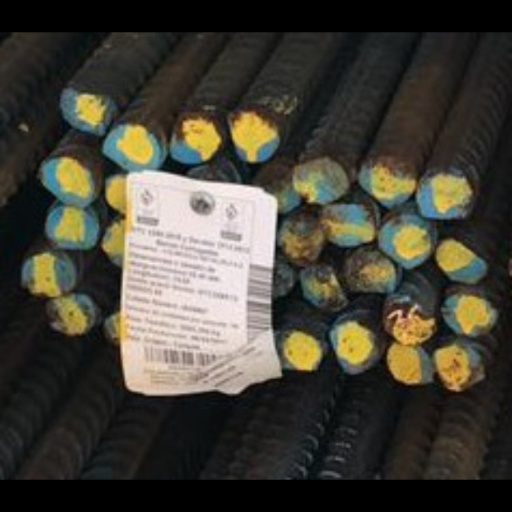dipstick: (357, 132, 419, 205), (99, 97, 167, 162), (328, 318, 386, 393), (378, 202, 439, 273), (36, 132, 98, 200), (415, 148, 474, 215), (13, 248, 80, 303), (440, 291, 501, 351), (168, 89, 226, 152), (228, 83, 281, 150), (291, 138, 351, 197), (381, 298, 440, 358), (250, 141, 302, 207), (431, 352, 487, 413), (59, 61, 117, 119), (43, 193, 102, 250), (276, 204, 326, 271), (337, 245, 399, 299), (319, 192, 378, 247), (434, 231, 489, 289), (273, 331, 325, 389), (42, 298, 102, 347), (300, 262, 349, 321), (387, 357, 432, 404), (261, 259, 297, 303)
